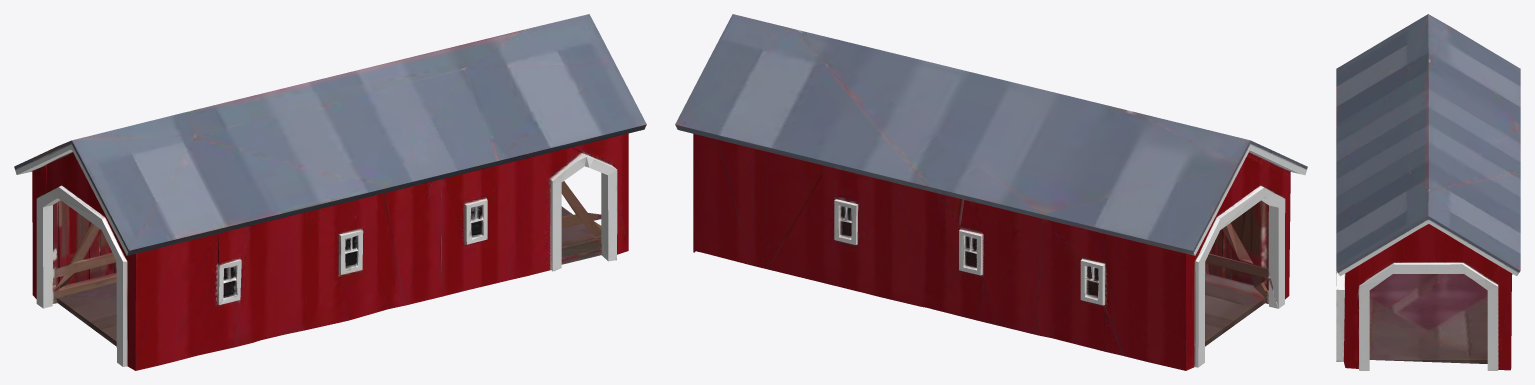
The model's file is covered-bridge.glb.
The picture shows the model from 3 angles, left to right: view 1: azimuth 30°, elevation 25°; view 2: azimuth 150°, elevation 25°; view 3: azimuth 270°, elevation 25°; orthographic projection. The views are drawn at different scales.
Bounding box in the file's own units: 1.9 × 0.6964 × 0.7321.
1 material, 1 textured.
